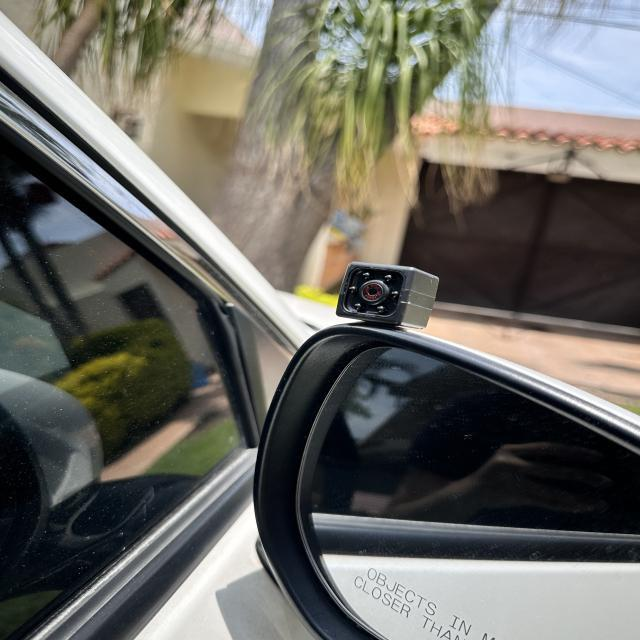hidden camera: (360, 280, 387, 303)
